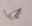microplastic: (3, 8, 22, 20)
